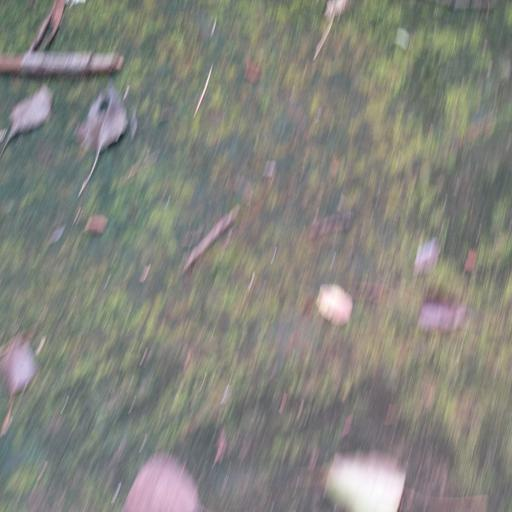algae: (0, 0, 510, 498)
